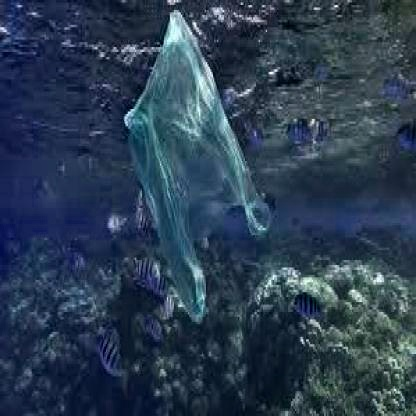pbag: (122, 10, 272, 324)
